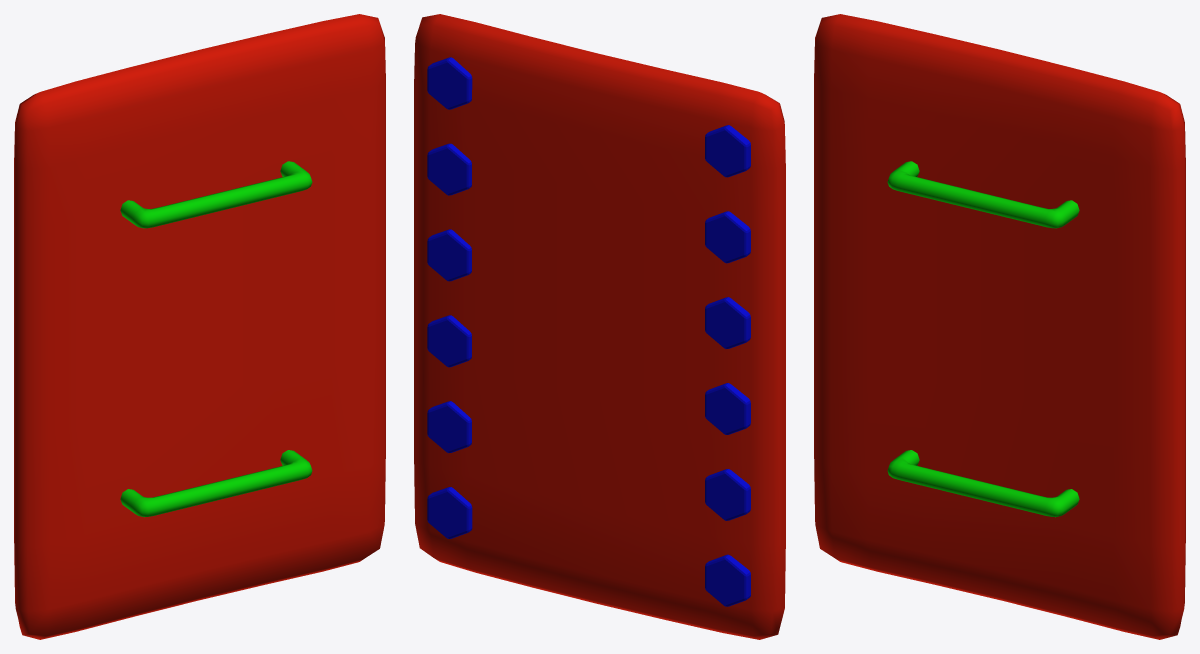
Rendered from shield.fbx.
The picture shows the model from 3 angles, left to right: view 1: azimuth 30°, elevation 25°; view 2: azimuth 150°, elevation 25°; view 3: azimuth 330°, elevation 25°; orthographic projection.
Visible parts, largest first — view 1: Cube.006, Cube.007; view 2: Cube.006, Cylinder.014; view 3: Cube.006, Cube.007.
Part boxes in pixels (x1,y1,x2,y2): Cube.006: (14, 14, 385, 639); Cube.007: (120, 161, 312, 517); Cube.006: (414, 14, 785, 639); Cylinder.014: (427, 57, 750, 606); Cube.006: (814, 14, 1185, 639); Cube.007: (887, 161, 1079, 517).
Bounding box in the file's own units: 105 × 149 × 20.75.
